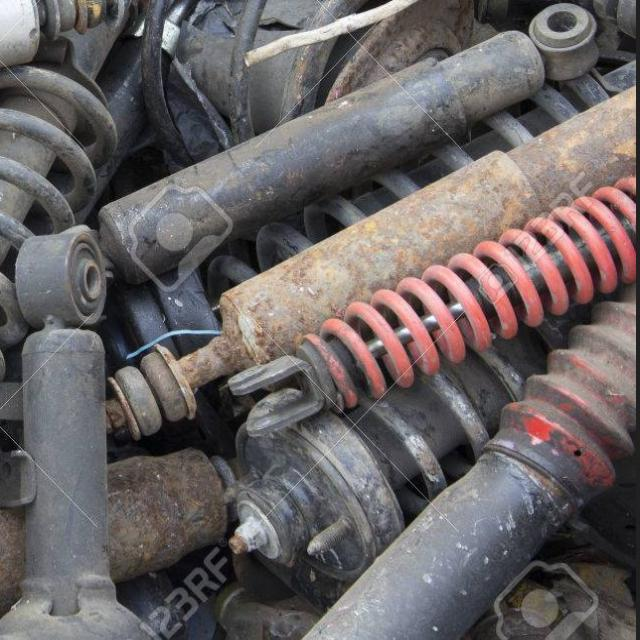shock absorber: (107, 86, 635, 444), (98, 30, 547, 280), (227, 170, 638, 438)
